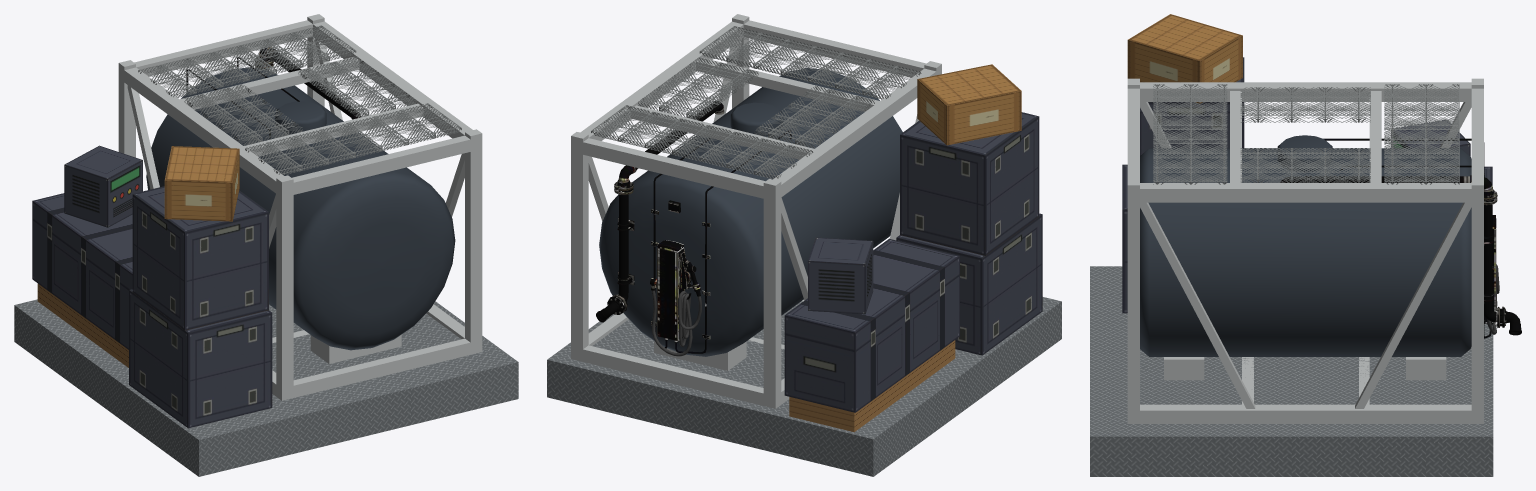
The model's file is refuel.glb.
The picture shows the model from 3 angles, left to right: view 1: azimuth 30°, elevation 25°; view 2: azimuth 150°, elevation 25°; view 3: azimuth 270°, elevation 25°; orthographic projection. The views are drawn at different scales.
Visible parts, largest first — view 1: SM_RefuelStation_stage5_Nanite; view 2: SM_RefuelStation_stage5_Nanite; view 3: SM_RefuelStation_stage5_Nanite.
Part boxes in pixels (bbox=[...]): SM_RefuelStation_stage5_Nanite: bbox=[14, 14, 518, 476]; SM_RefuelStation_stage5_Nanite: bbox=[547, 14, 1061, 476]; SM_RefuelStation_stage5_Nanite: bbox=[1090, 14, 1521, 476].
Bounding box in the file's own units: 3 × 2.41 × 3.21.
9 materials, 6 textured.
